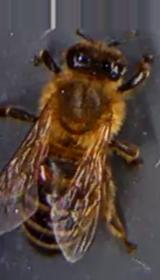varroa_mite: (36, 162, 56, 182)
